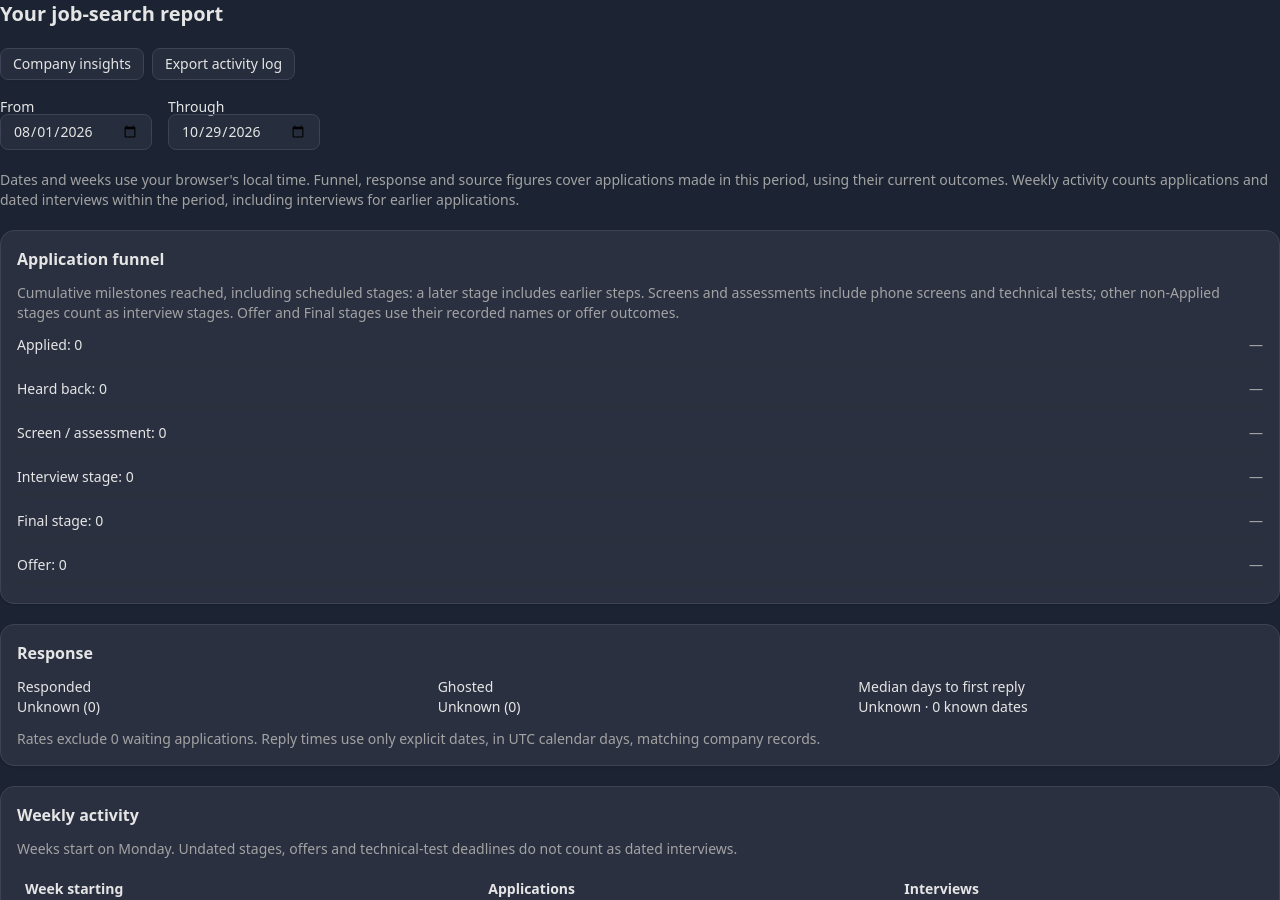
Test case: job-search report UI › updates the funnel, response metrics, weekly activity and sources for a selected local period
Expected: the heading "Application funnel" is shown, [17,248,164,270]
In the date field labelled "From": (76, 132) [0,114,152,150], type "2026-01-01"
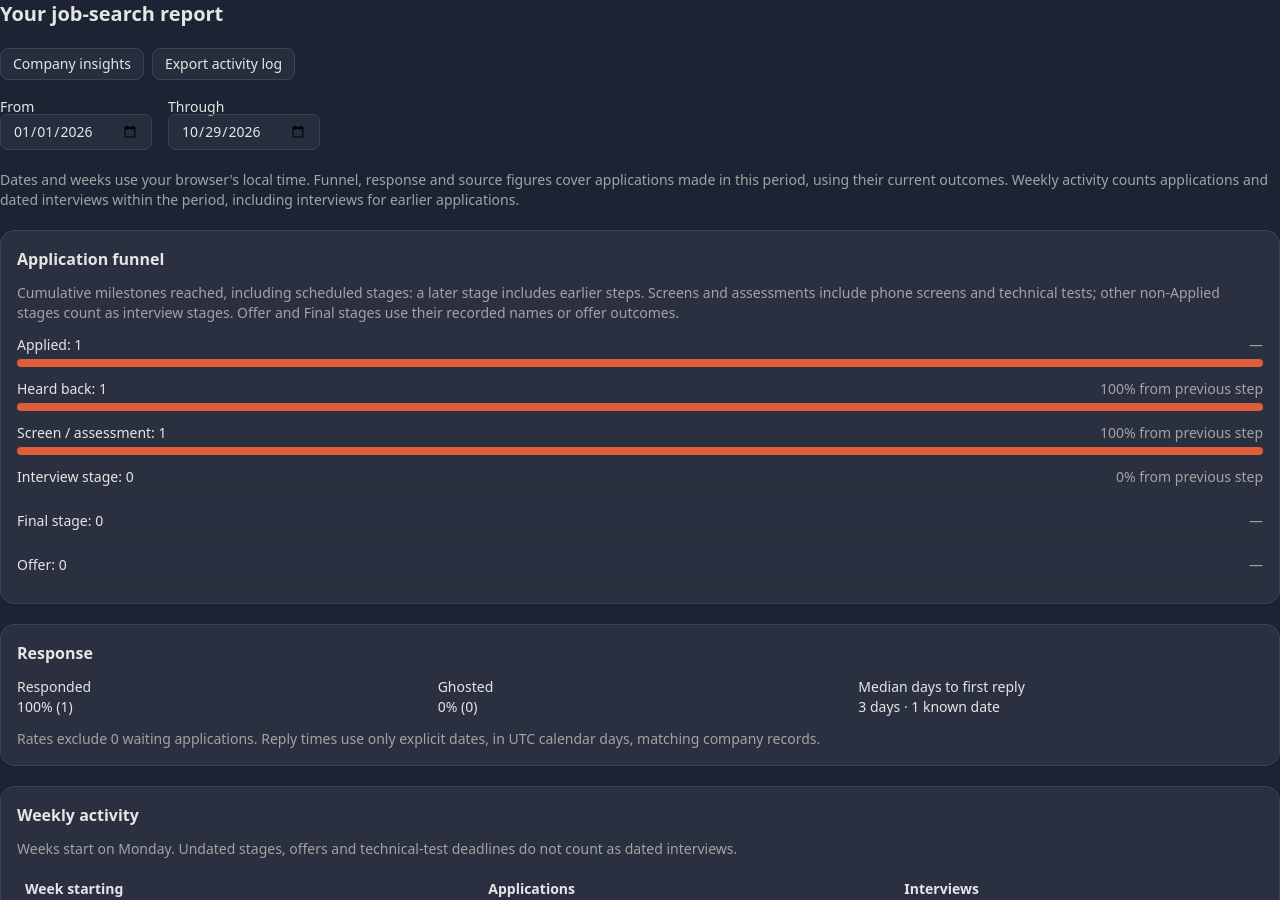
In the date field labelled "Through": (244, 132) [168,114,320,150], type "2026-01-31"
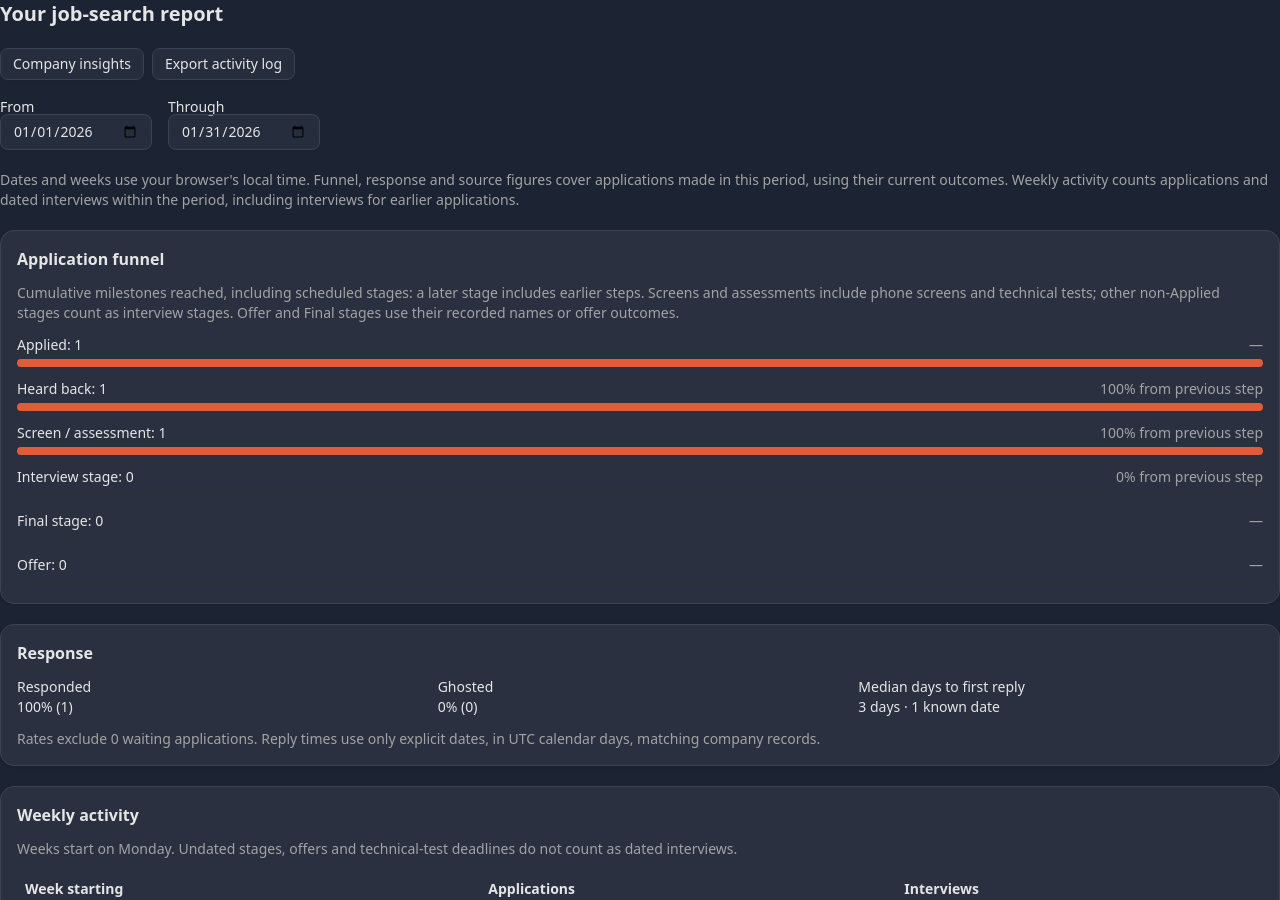
Expected: the text "Applied: 1" is shown, [17,335,82,355]
Expected: the text "Screen / assessment: 1" is shown, [17,423,166,443]
Expected: the text "3 days · 1 known date" is shown, [858,697,1000,716]
In the date field labelled "From": (76, 132) [0,114,152,150], type "2026-02-01"
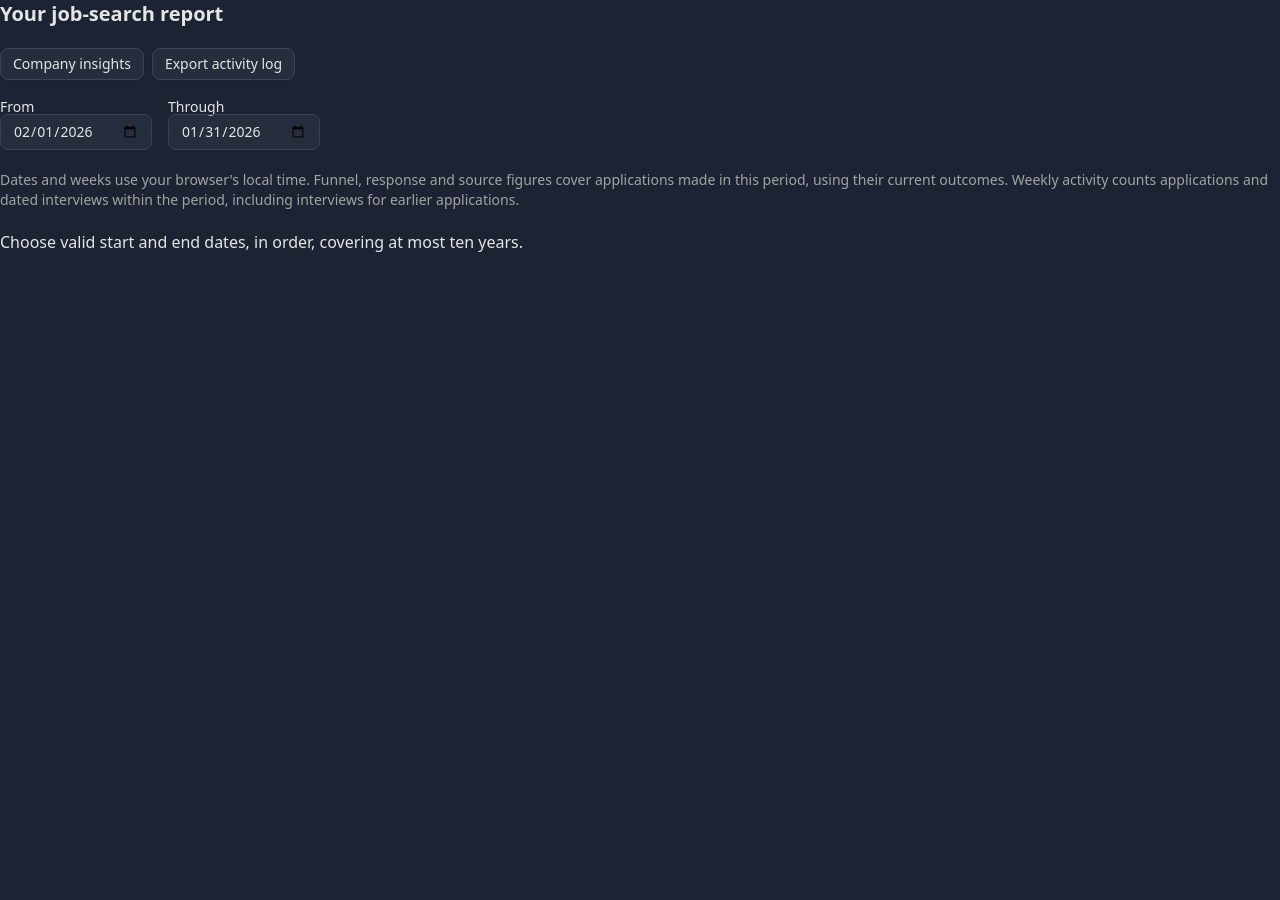
In the date field labelled "Through": (244, 132) [168,114,320,150], type "2026-02-28"
(page scrolled)
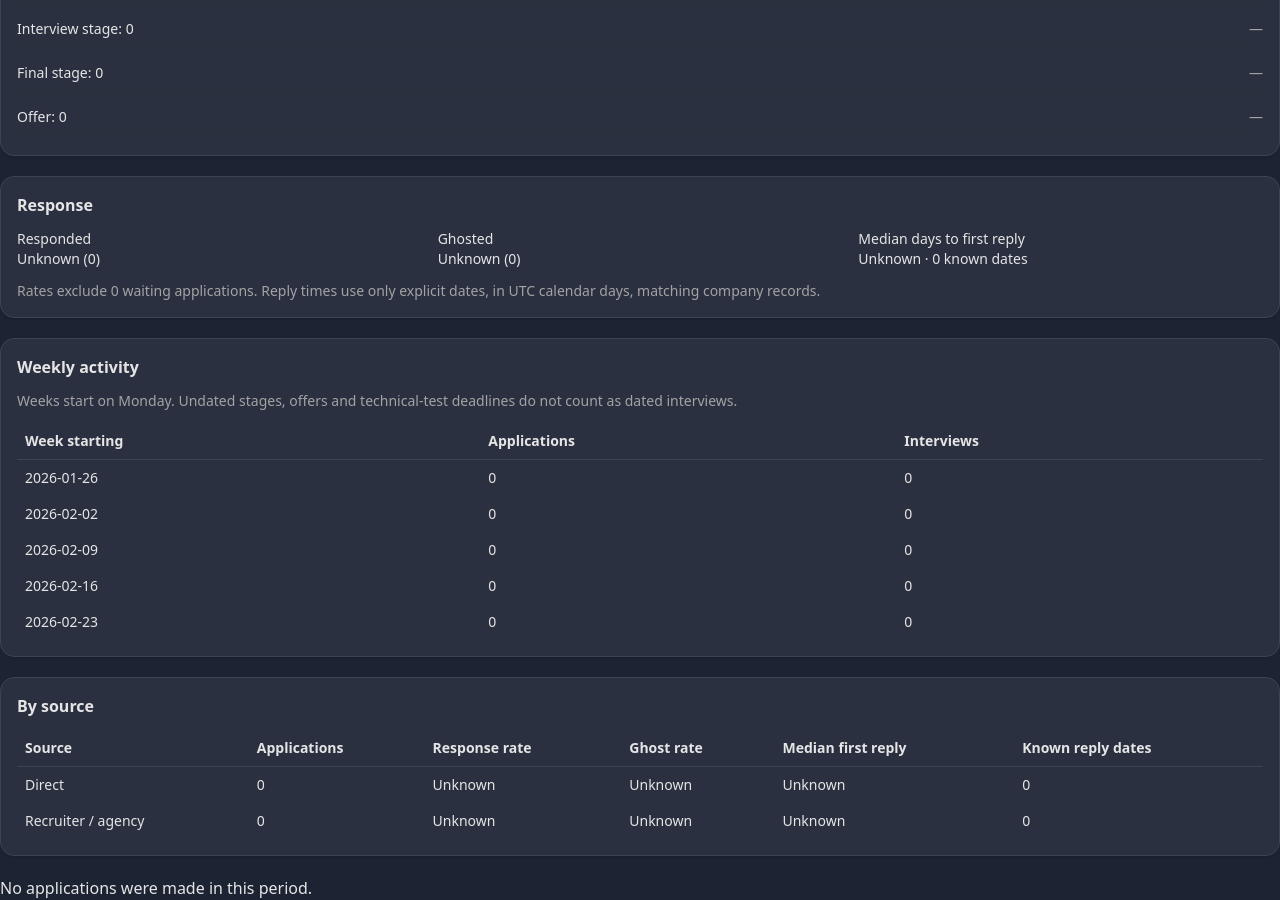
Expected: the text "No applications were made in this period." is shown, [0,877,312,899]
